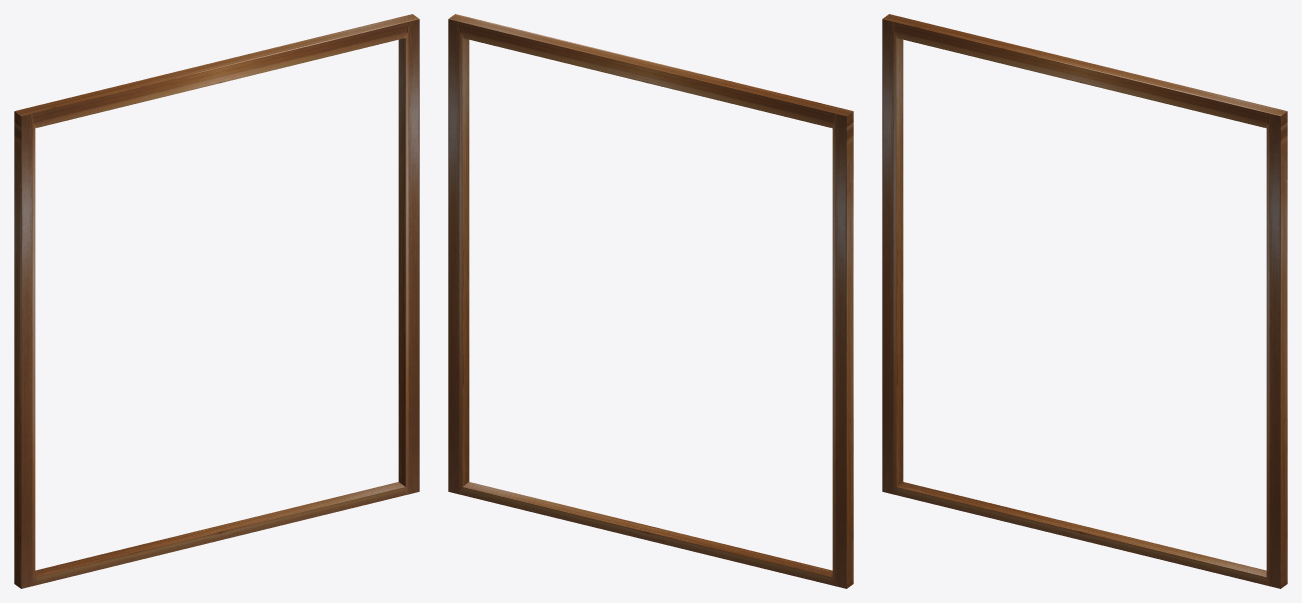
File: DoorDoublePost.FBX
The picture shows the model from 3 angles, left to right: view 1: azimuth 30°, elevation 25°; view 2: azimuth 150°, elevation 25°; view 3: azimuth 330°, elevation 25°; orthographic projection.
Visible parts, largest first — view 1: DoorDoublePost; view 2: DoorDoublePost; view 3: DoorDoublePost.
Boxes of the visible parts, x1,y1,x2,y2 form: DoorDoublePost: (14, 14, 419, 588); DoorDoublePost: (448, 14, 853, 588); DoorDoublePost: (882, 14, 1287, 588).
Bounding box in the file's own units: 1805 × 2045 × 55.
